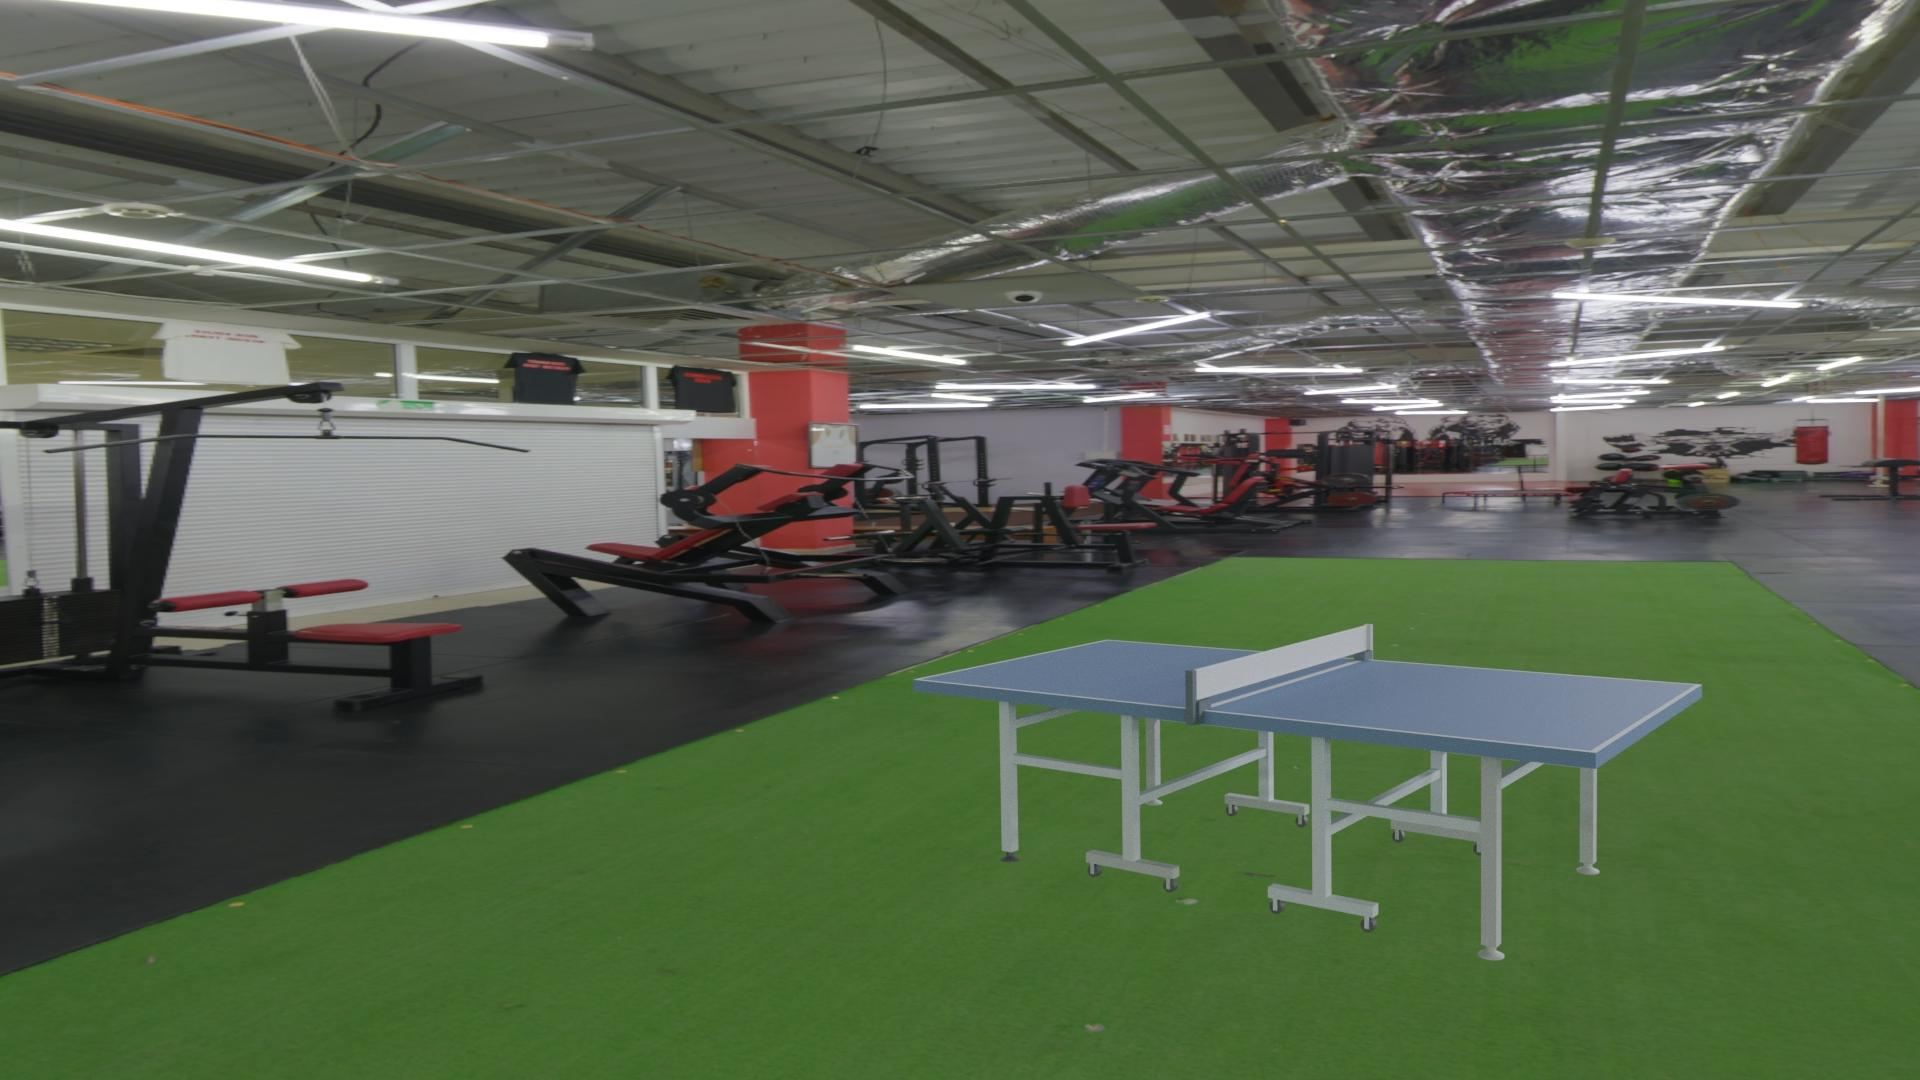table: (919, 641, 1696, 750)
